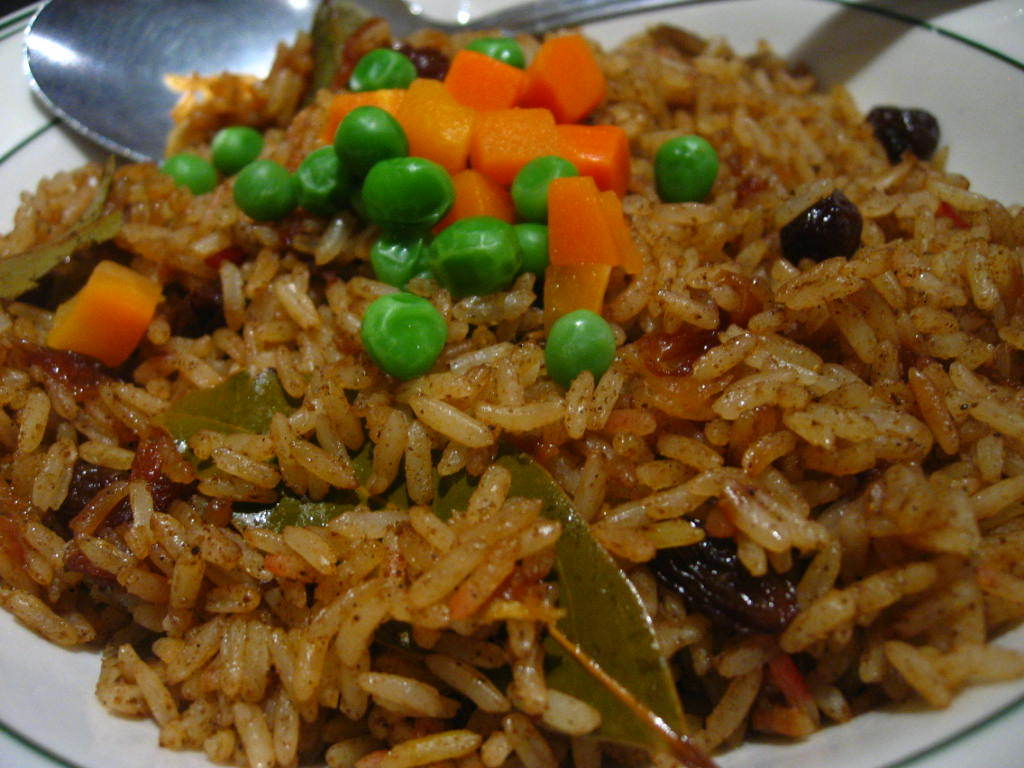Carrot: (322, 31, 635, 334), (46, 259, 164, 370)
